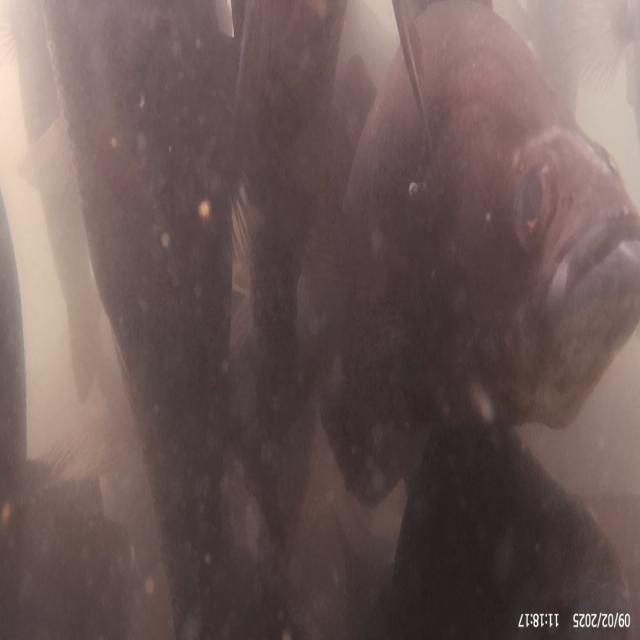ikan: (318, 0, 638, 511)
